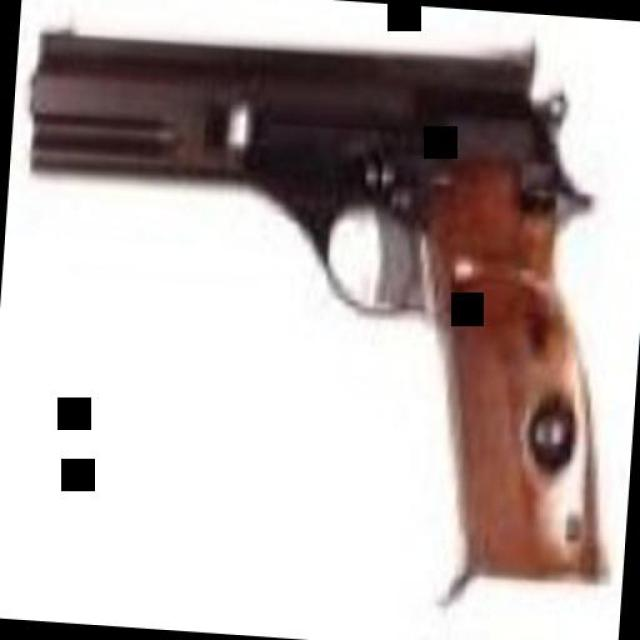gun: (0, 25, 631, 589)
